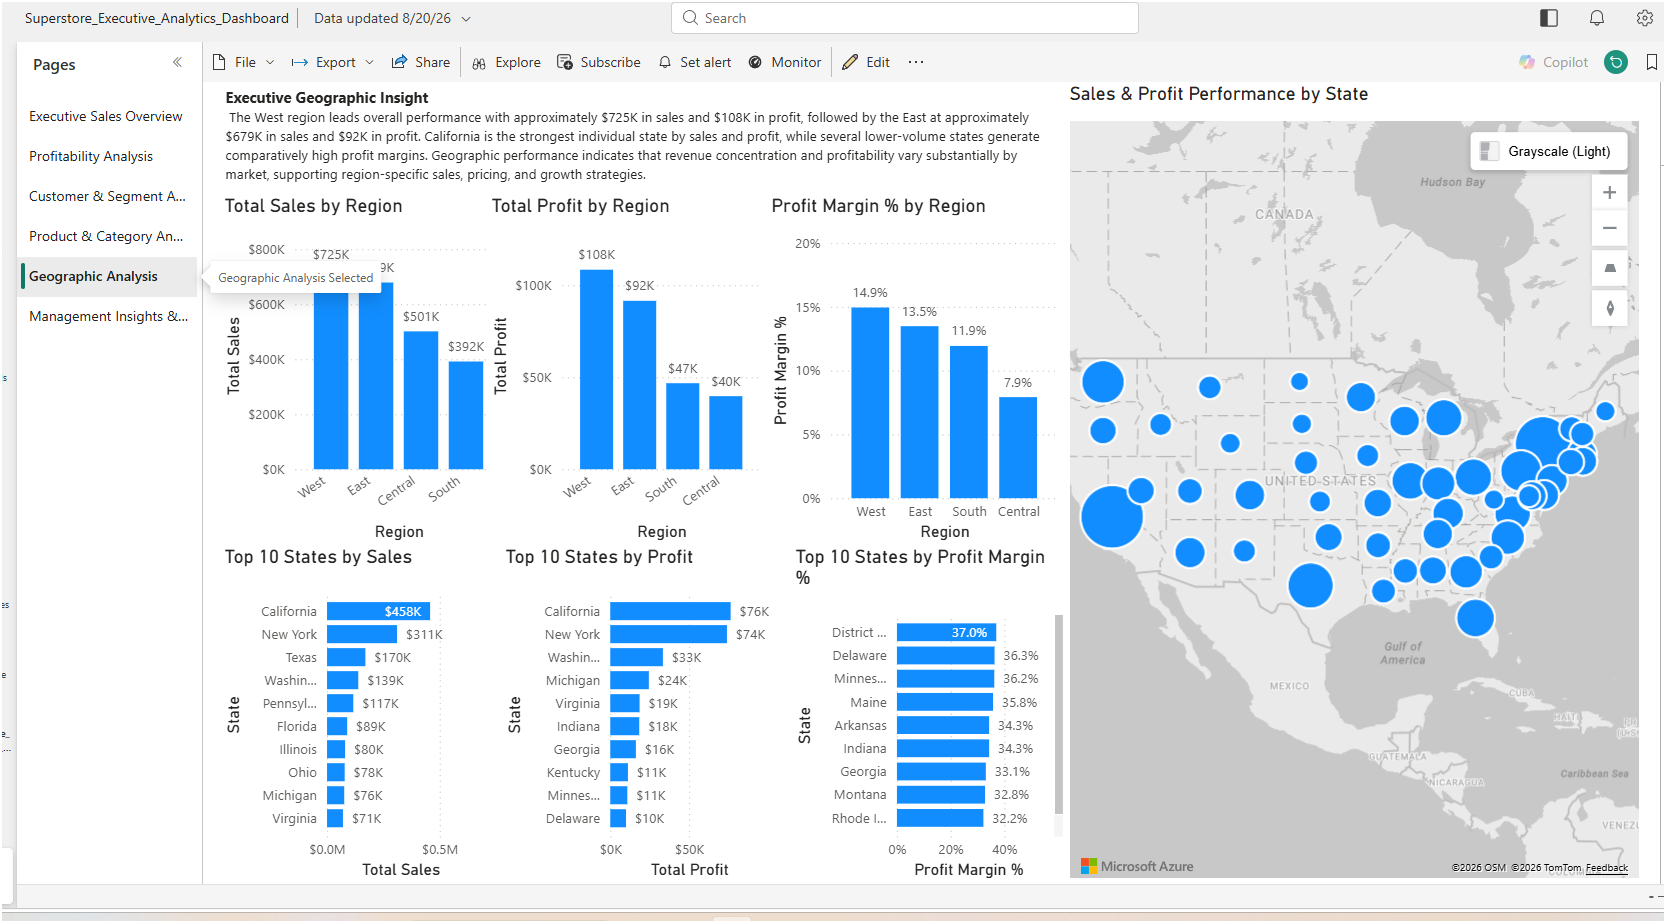

The page's visual inventory and layout, read from the dashboard file:
{"tool":"powerbi","page":{"name":"Geographic Analysis","canvas":[1280,720],"ordinal":4},"visuals":[{"type":"clusteredColumnChart","fields":{"Category":["sample_superstore_clean.Region"],"Y":["sample_superstore_clean.Total Sales"]},"box":[0,100.2,259.7,316.1],"z":0},{"type":"clusteredColumnChart","fields":{"Category":["sample_superstore_clean.Region"],"Y":["sample_superstore_clean.Total Profit"]},"box":[239.3,100.2,251.9,316.1],"z":1000},{"type":"clusteredColumnChart","title":"Profit Margin % by Region","fields":{"Category":["sample_superstore_clean.Region"],"Y":["sample_superstore_clean.Profit Margin %"]},"box":[491.2,100.2,267.5,316.1],"z":2000},{"type":"clusteredBarChart","title":"Top 10 States by Sales","fields":{"Category":["sample_superstore_clean.State"],"Y":["sample_superstore_clean.Total Sales"]},"box":[0,416,252,304],"z":3000},{"type":"clusteredBarChart","title":"Top 10 States by Profit","fields":{"Category":["sample_superstore_clean.State"],"Y":["sample_superstore_clean.Total Profit"]},"box":[252,416,261,304],"z":4000},{"type":"clusteredBarChart","title":"Top 10 States by Profit Margin %","fields":{"Category":["sample_superstore_clean.State"],"Y":["sample_superstore_clean.Profit Margin %"]},"box":[513,416,250,304],"z":5000},{"type":"azureMap","title":"Sales & Profit Performance by State","fields":{"Category":["sample_superstore_clean.State"],"Size":["sample_superstore_clean.Total Sales"]},"box":[758.7,0,521.3,719.8],"z":5001},{"type":"textbox","box":[1,0,757.7,100.2],"z":5002}]}

Visuals, with their boxes on the page's 1280x720 design canvas (x1, y1, x2, y2). These are canvas units, not pixel positions in the 1666x923 screenshot, which may show the page scaled, cropped or inside an application window:
clusteredColumnChart - sample_superstore_clean.Region x sample_superstore_clean.Total Sales: left=0, top=100, right=260, bottom=416
clusteredColumnChart - sample_superstore_clean.Region x sample_superstore_clean.Total Profit: left=239, top=100, right=491, bottom=416
"Profit Margin % by Region" clusteredColumnChart: left=491, top=100, right=759, bottom=416
"Top 10 States by Sales" clusteredBarChart: left=0, top=416, right=252, bottom=720
"Top 10 States by Profit" clusteredBarChart: left=252, top=416, right=513, bottom=720
"Top 10 States by Profit Margin %" clusteredBarChart: left=513, top=416, right=763, bottom=720
"Sales & Profit Performance by State" azureMap: left=759, top=0, right=1280, bottom=720
textbox: left=1, top=0, right=759, bottom=100
